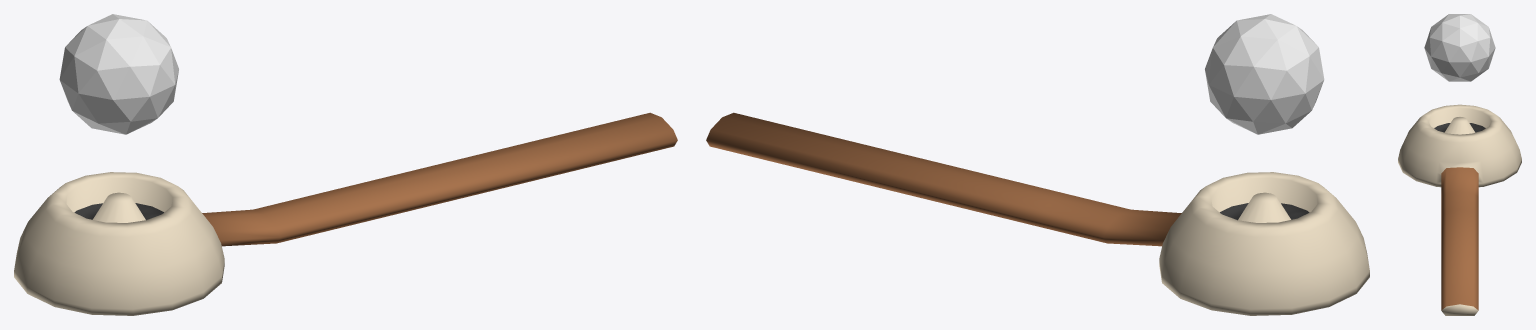
Rendered from laser_receiver.fbx.
The picture shows the model from 3 angles, left to right: view 1: azimuth 30°, elevation 25°; view 2: azimuth 150°, elevation 25°; view 3: azimuth 270°, elevation 25°; orthographic projection. The views are drawn at different scales.
Visible parts, largest first — view 1: Cylinder, gem; view 2: Cylinder, gem; view 3: Cylinder, gem.
Part boxes in pixels (x1,y1,x2,y2): Cylinder: (14, 112, 677, 315); gem: (59, 14, 178, 134); Cylinder: (706, 112, 1369, 315); gem: (1205, 14, 1324, 134); Cylinder: (1398, 104, 1521, 315); gem: (1424, 14, 1495, 81).
Bounding box in the file's own units: 690 × 262 × 200.
